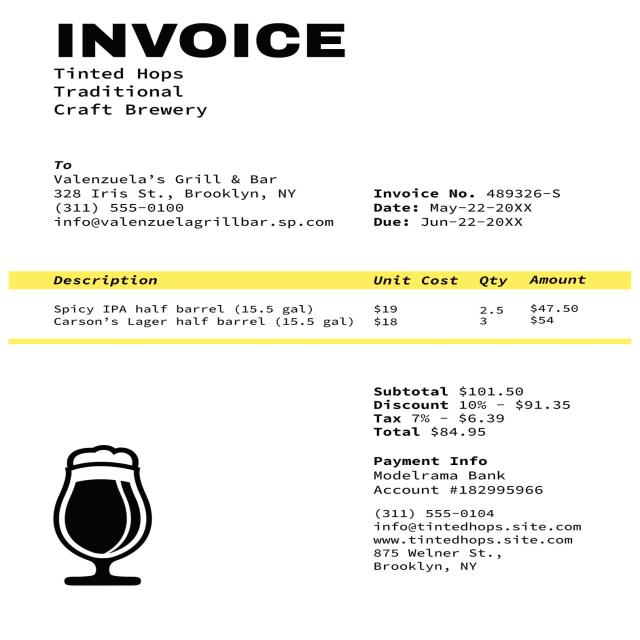paragraph: (27, 419, 184, 616), (46, 147, 340, 242), (358, 504, 588, 582), (354, 368, 581, 439), (43, 15, 366, 60), (356, 444, 578, 501), (360, 181, 572, 237), (42, 65, 223, 119)
table: (8, 261, 625, 348)
